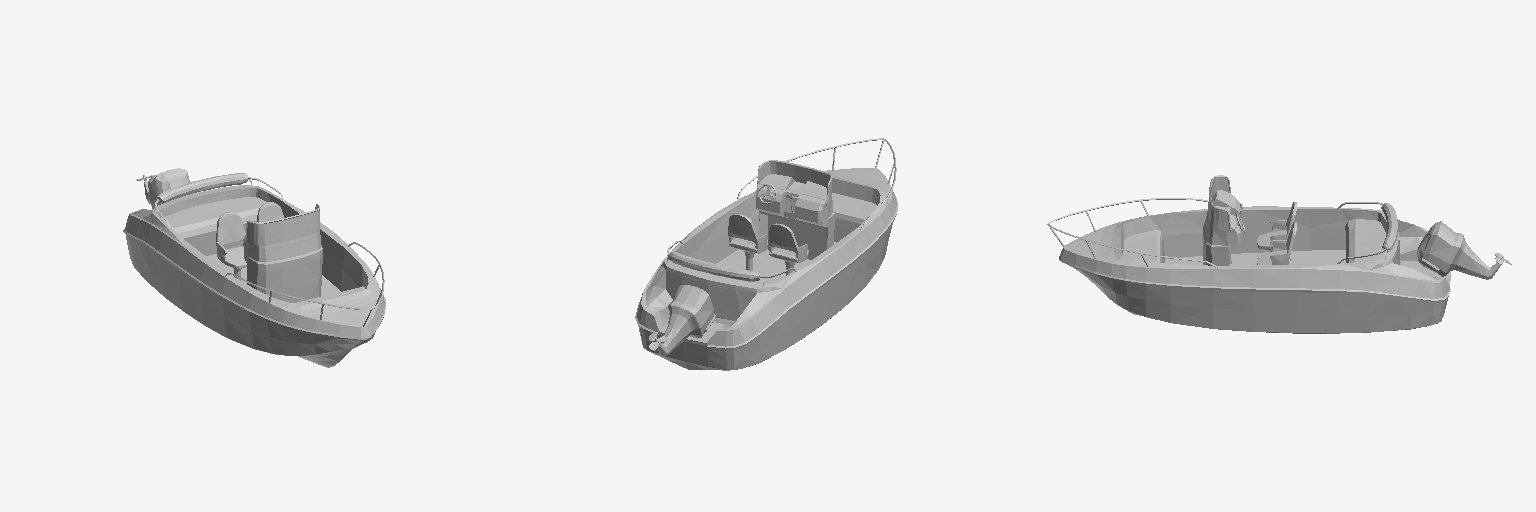
File: Powerboat_EngineRaised.obj
The picture shows the model from 3 angles: view 1: azimuth 30°, elevation 25°; view 2: azimuth 150°, elevation 25°; view 3: azimuth 270°, elevation 25°; orthographic projection.
Visible parts, largest first — view 1: Powerboat_EngineRaised_LP; view 2: Powerboat_EngineRaised_LP; view 3: Powerboat_EngineRaised_LP.
Boxes of the visible parts, box(x1,y1,x2,y2) form: Powerboat_EngineRaised_LP: box(123, 168, 385, 367); Powerboat_EngineRaised_LP: box(635, 138, 897, 370); Powerboat_EngineRaised_LP: box(1047, 175, 1511, 333).
Size of the model in its own units: 1.95 by 1.71 by 5.57.